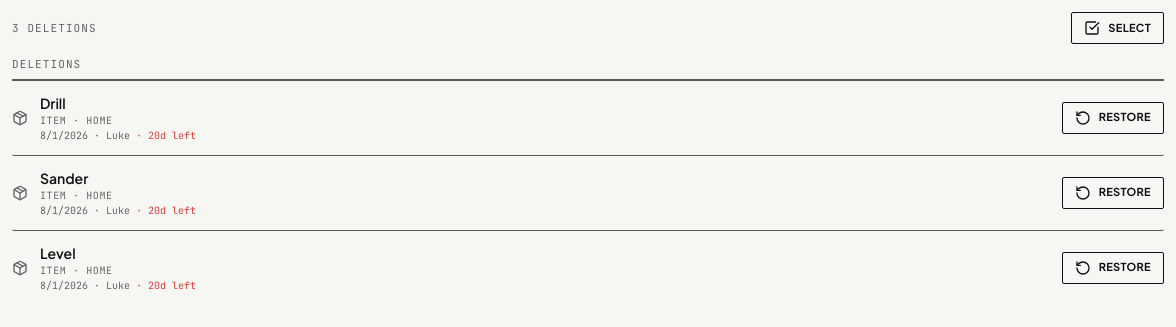
Test case: a blocked restore whose payload carries only a name (no id) renders plain text, not a link
Click the button "Restore" in the row of "Sander": (1113, 192) top-left (1062, 176), bottom-right (1164, 208)
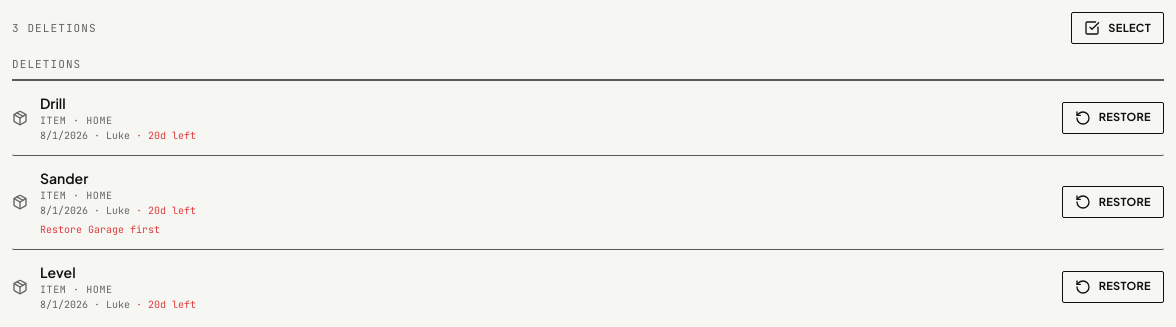
Expected: the text "Restore Garage first" is shown, top-left (40, 222), bottom-right (160, 236)
